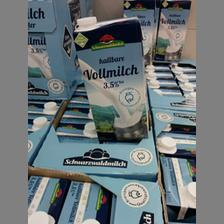Milch: (73, 16, 151, 142), (158, 0, 187, 62)
